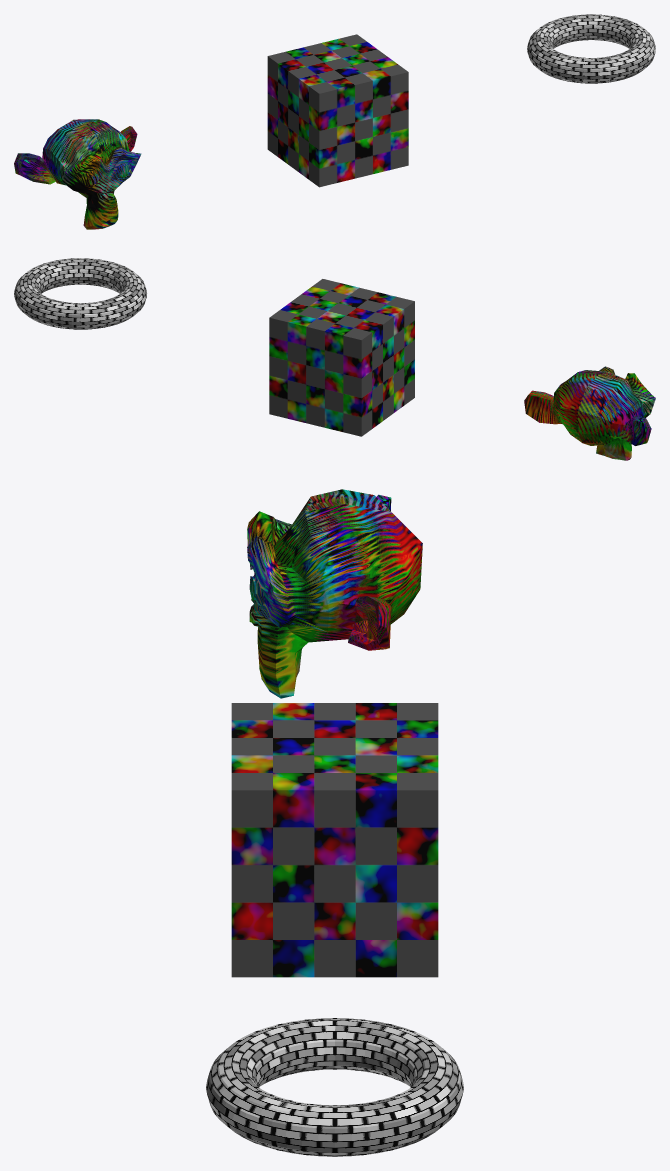
Rendered from multi.obj.
3 views of the same model, one above another, from view 1: azimuth 30°, elevation 25°; view 2: azimuth 150°, elevation 25°; view 3: azimuth 270°, elevation 25° (orthographic). The views are drawn at different scales.
Visible parts, largest first — view 1: Cube, Suzanne, Torus; view 2: Cube, Suzanne, Torus; view 3: Cube, Torus, Suzanne.
Boxes of the visible parts, x1=… form: Cube: x1=267, y1=34, x2=408, y2=187; Suzanne: x1=14, y1=119, x2=141, y2=229; Torus: x1=527, y1=14, x2=655, y2=83; Cube: x1=269, y1=279, x2=414, y2=436; Suzanne: x1=524, y1=366, x2=655, y2=460; Torus: x1=14, y1=258, x2=146, y2=329; Cube: x1=231, y1=703, x2=438, y2=977; Torus: x1=206, y1=1018, x2=463, y2=1156; Suzanne: x1=247, y1=489, x2=422, y2=698.
Size of the model in its own units: 13.89 by 2 by 2.5.
3 materials, 3 textured.
